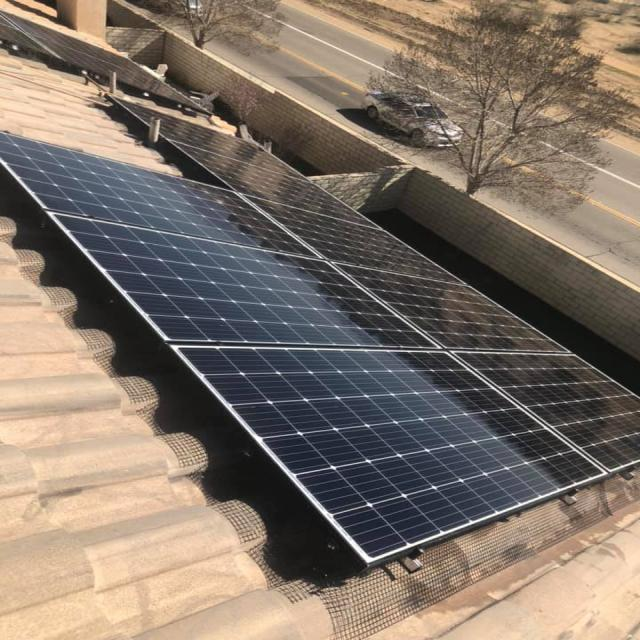clean-solar-panel: (2, 114, 638, 564)
